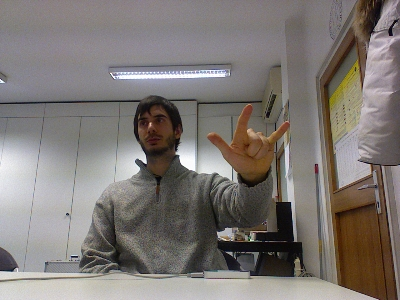我爱你: (204, 101, 290, 179)
